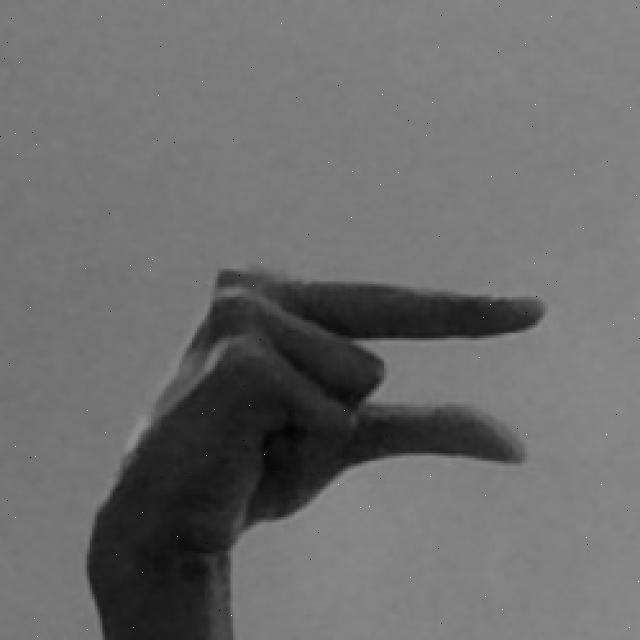G: (82, 261, 548, 640)
